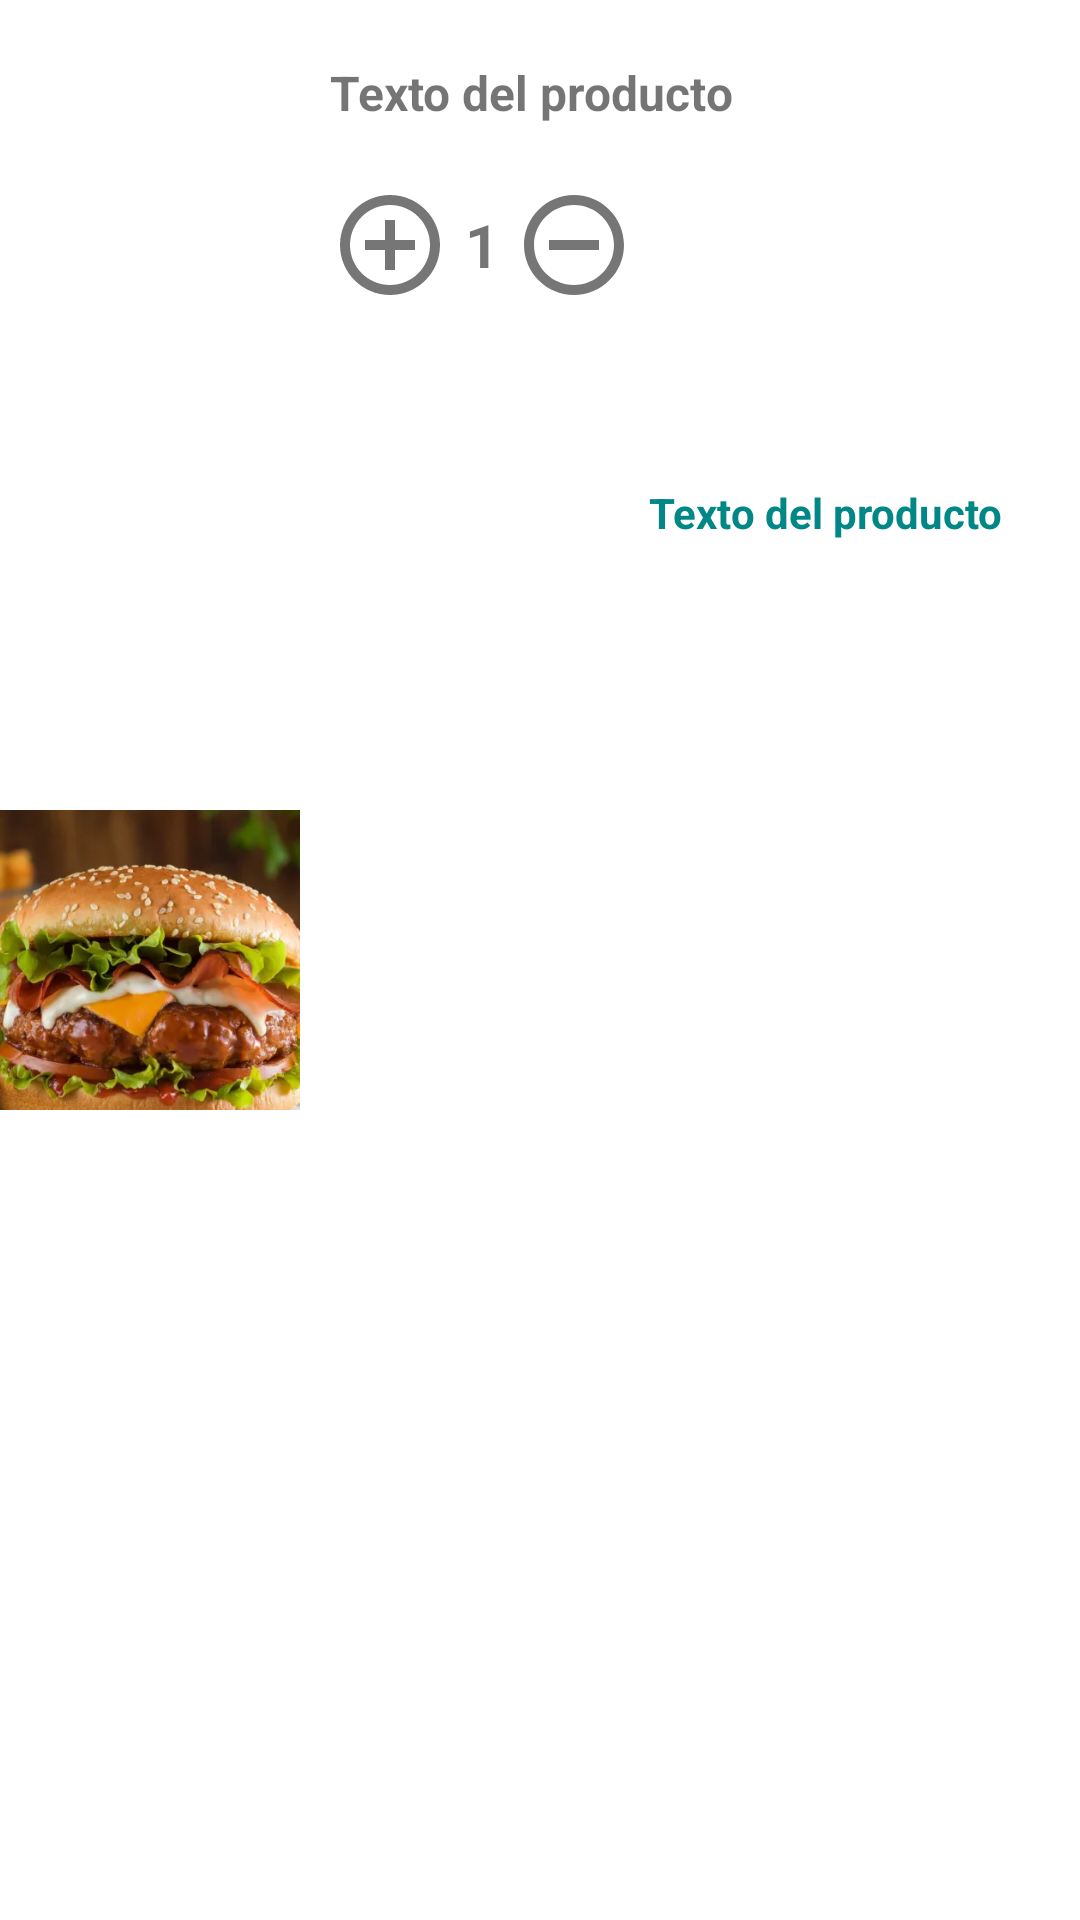

Named icons in this screenshot (1080px x 1920px) and their bounding boxes, (x1,y1,x2,y2):
add circle: (340,195,440,295)
hamburg: (0,810,300,1110)
remove circle: (524,195,624,295)
